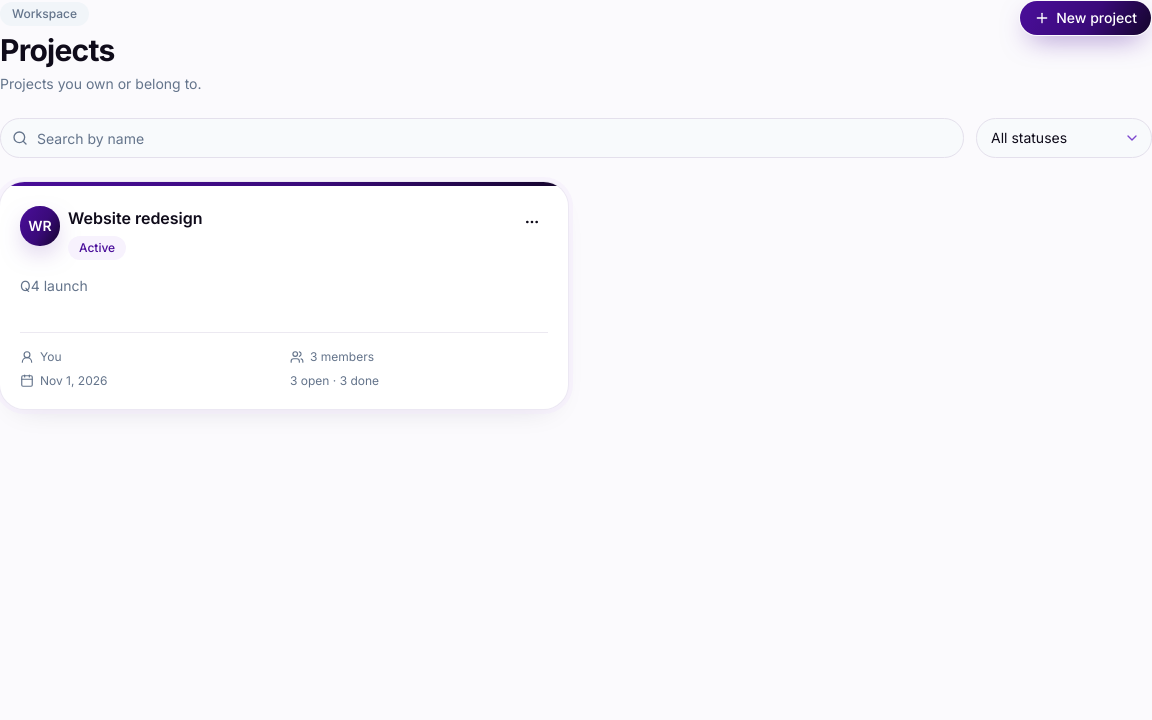
Test: edit › shows the backend's permission denial inside the dialog
Expected: the heading "Projects" is shown, x1=0 y1=32 x2=114 y2=68
Click the button named "Actions for Website redesign". click: (532, 222)
box: x1=516 y1=206 x2=548 y2=238
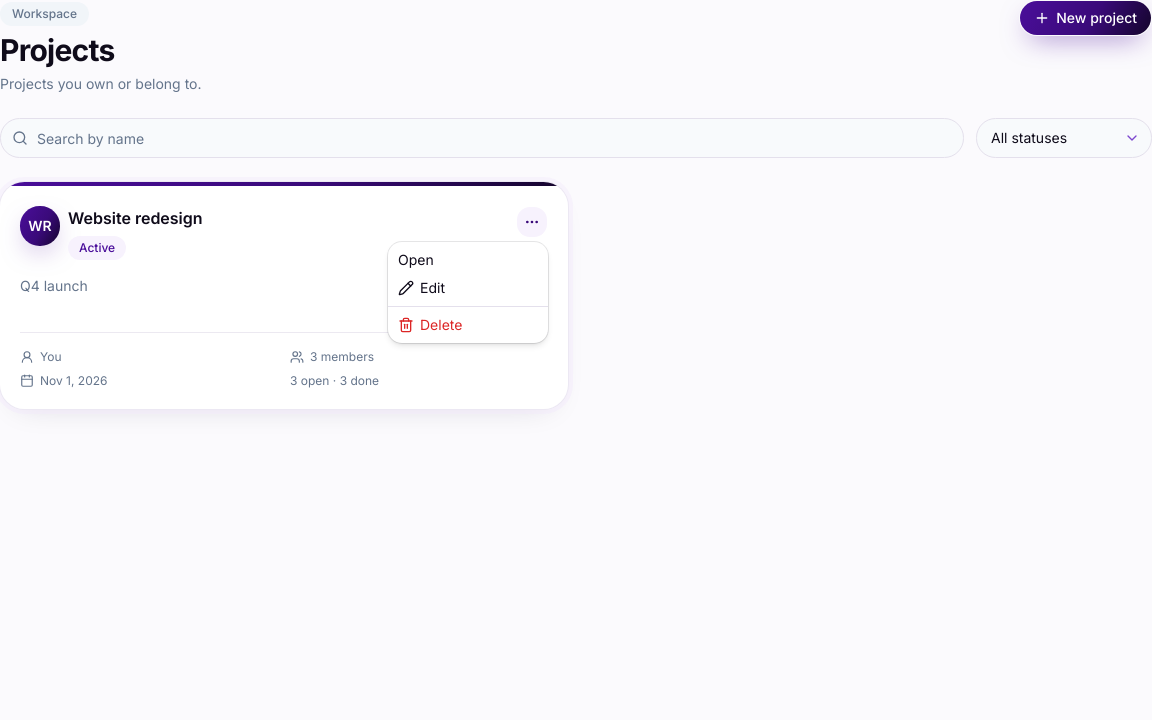
Click the menu item "Edit". click: (422, 288)
box: x1=398 y1=279 x2=445 y2=296
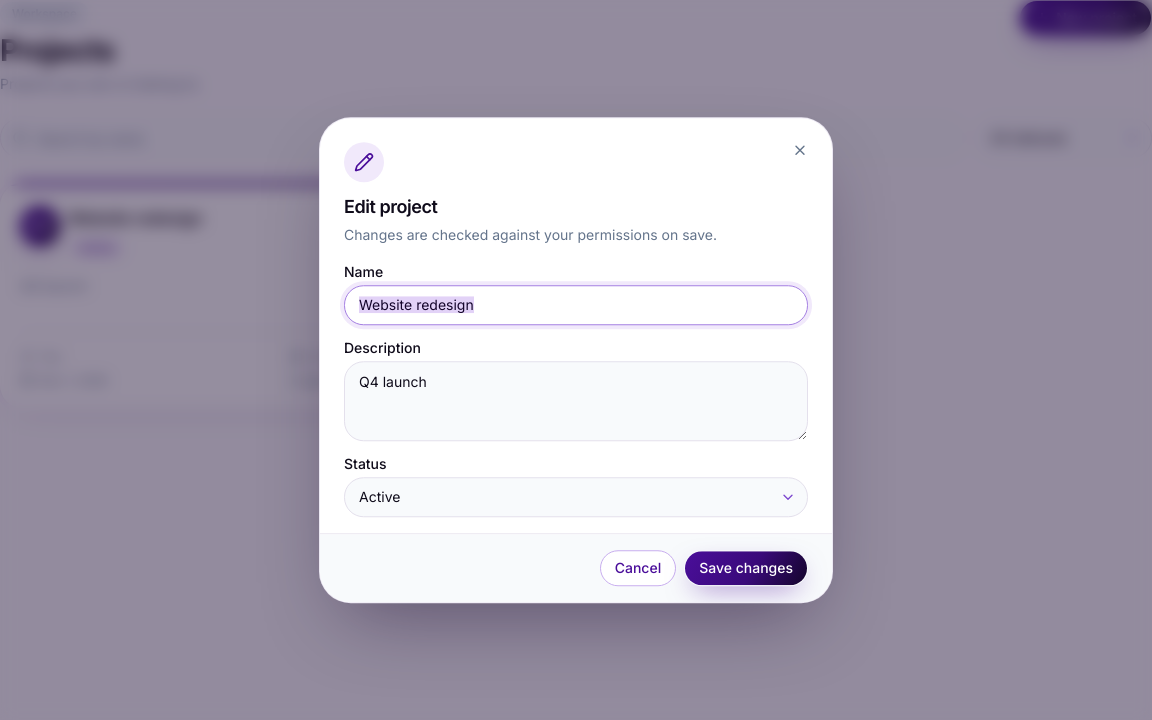
Type " 2" into the field labelled "Name". click: (576, 305)
box: x1=344 y1=285 x2=808 y2=325
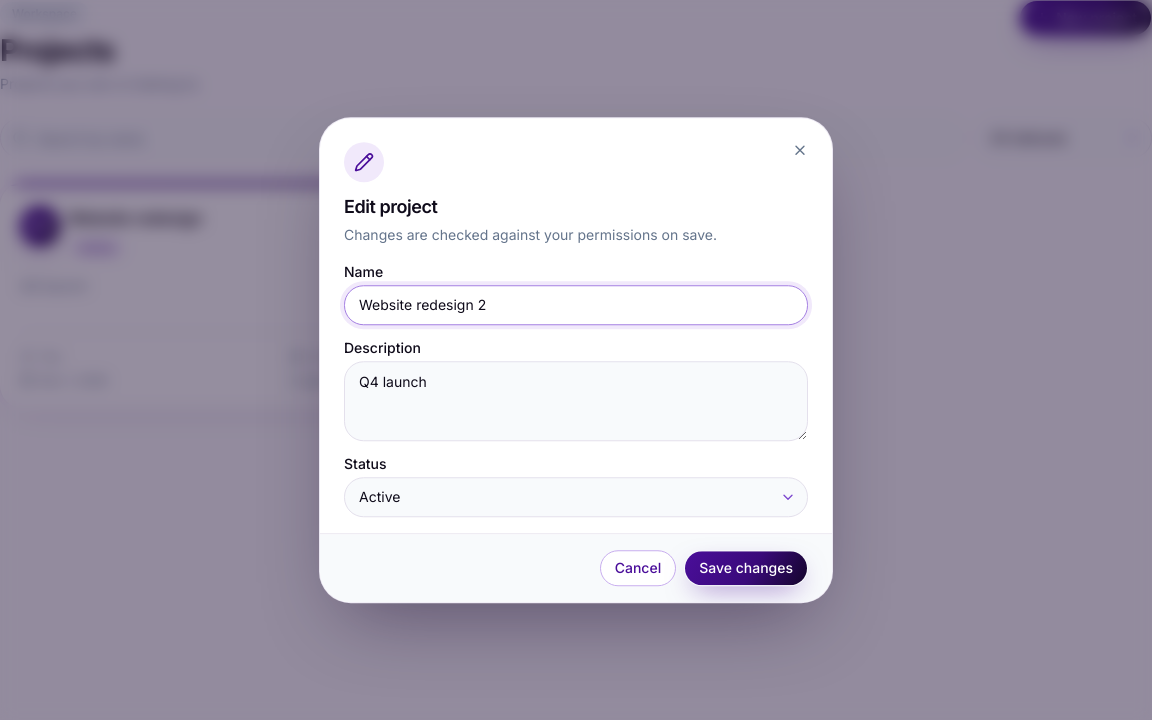
Click the button "Save changes". click: (746, 568)
box: x1=684 y1=550 x2=808 y2=586
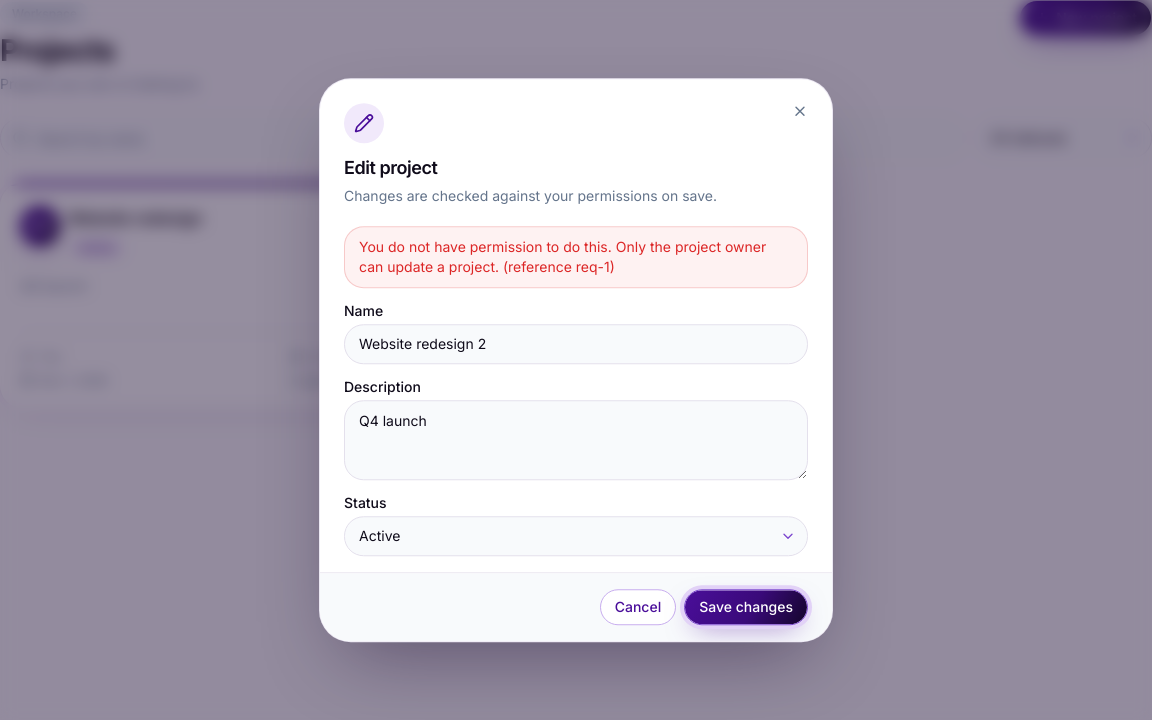
Expected: the message shows "You do not have permission to do this. Only the project owner can update a project.", x1=359 y1=238 x2=766 y2=275
